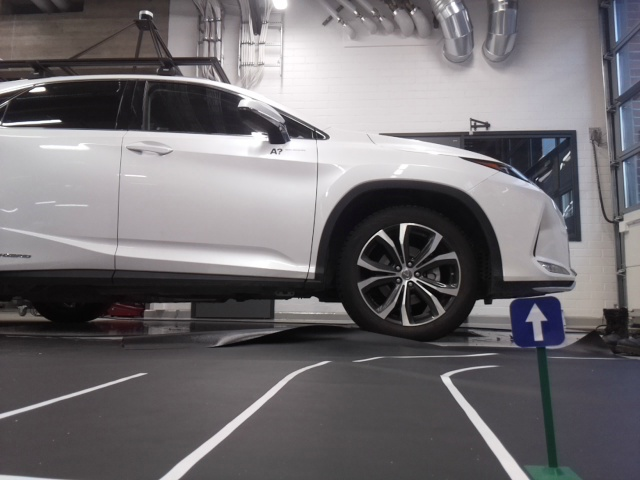OneWay: (511, 299, 566, 347)
